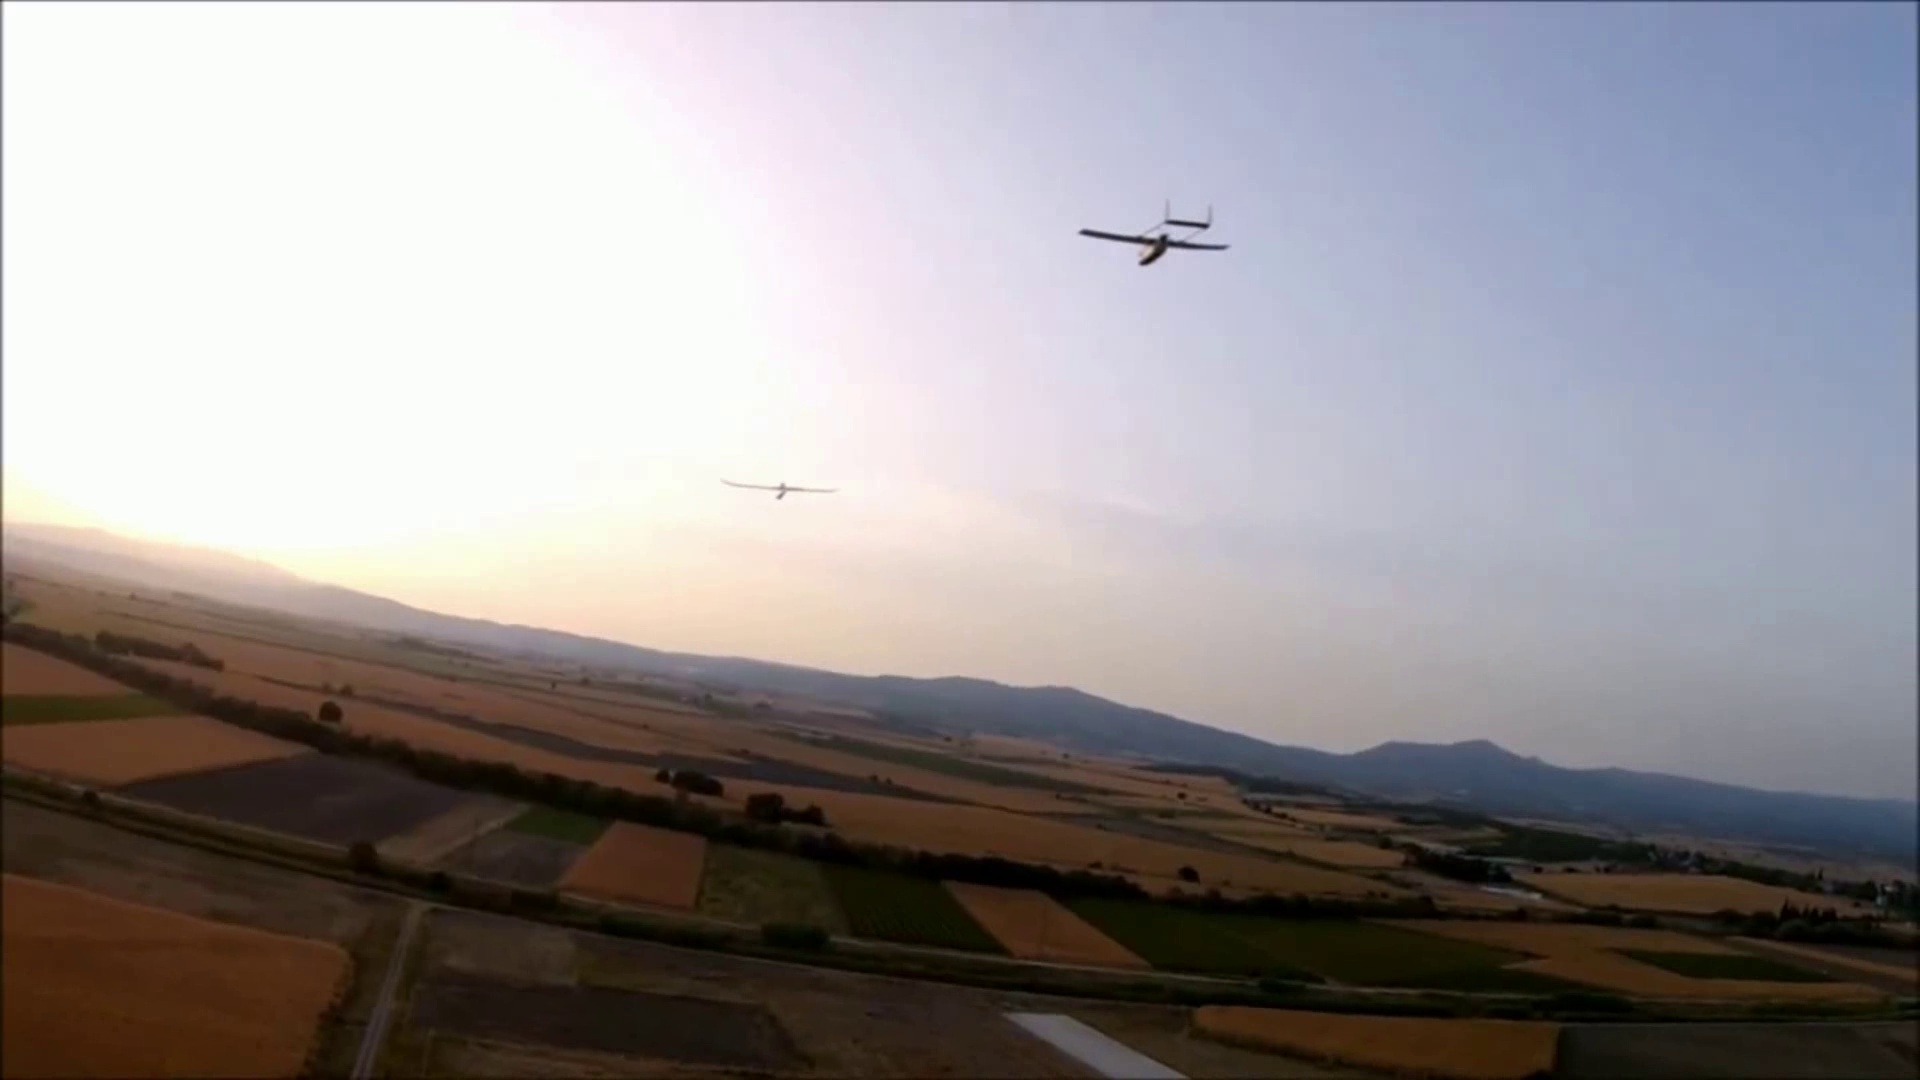airplane: (9, 465, 1866, 931), (1073, 202, 1230, 266), (717, 458, 843, 498), (720, 468, 841, 500)
